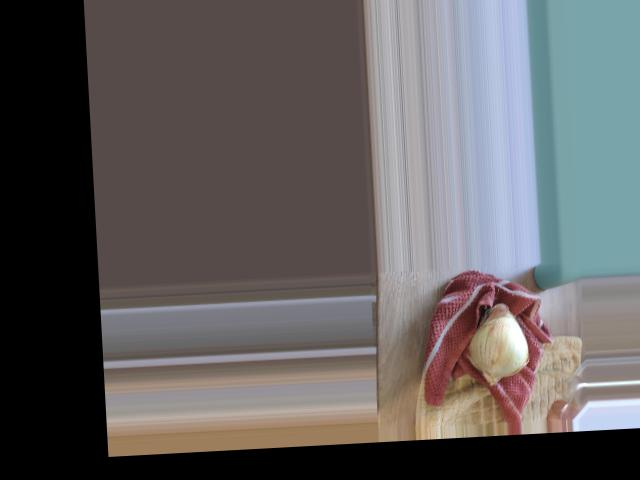onion: (463, 307, 534, 380)
